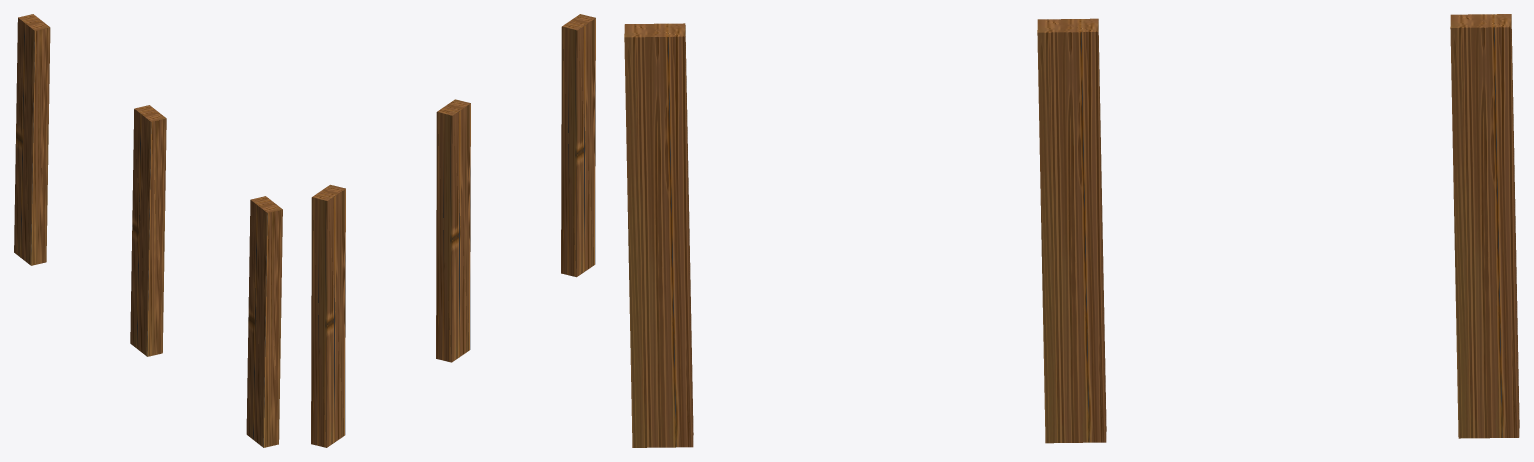
The picture shows the model from 3 angles, left to right: view 1: azimuth 30°, elevation 25°; view 2: azimuth 150°, elevation 25°; view 3: azimuth 270°, elevation 25°; orthographic projection. The views are drawn at different scales.
Visible parts, largest first — view 1: Cube.783; view 2: Cube.783; view 3: Cube.783.
Boxes of the visible parts, <box> form: Cube.783: <box>14,14,282,447</box>; Cube.783: <box>311,14,595,447</box>; Cube.783: <box>624,14,1519,447</box>.
Size of the model in its own units: 13.63 by 147 by 281.
1 material, 1 textured.
